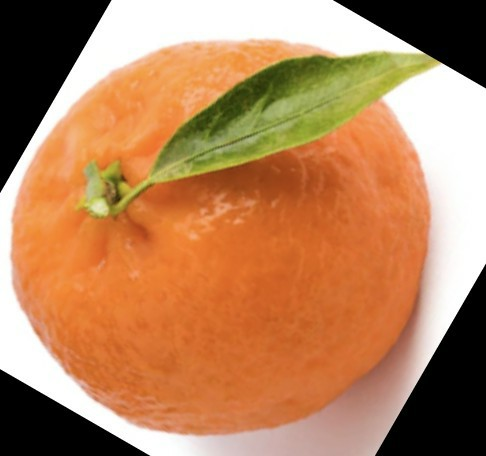fresh_orange: (10, 36, 431, 435)
